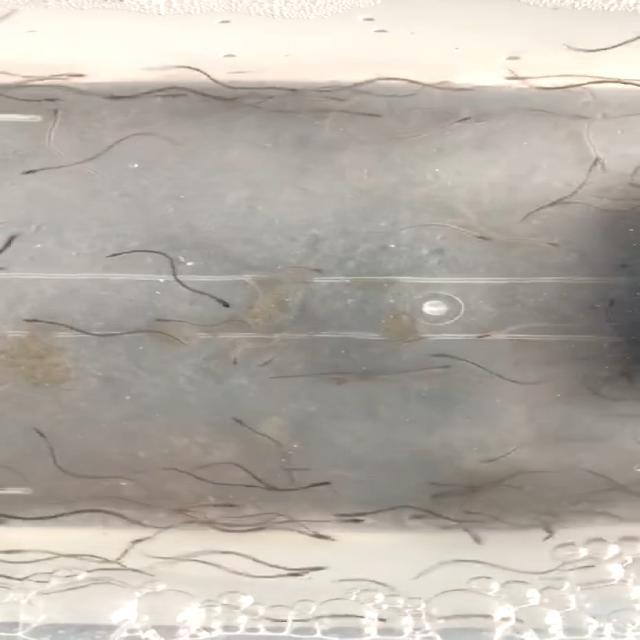active_glass_eel: (196, 294, 256, 311), (98, 87, 144, 107), (302, 529, 348, 549), (206, 413, 259, 430), (435, 110, 485, 128), (16, 315, 66, 331), (436, 75, 474, 96), (462, 229, 504, 248), (533, 234, 569, 252), (314, 477, 344, 498), (209, 498, 250, 512), (418, 348, 458, 362), (24, 418, 52, 438), (304, 558, 338, 574), (302, 261, 335, 277), (48, 68, 88, 81), (451, 508, 483, 524), (216, 352, 250, 367), (420, 363, 462, 375), (462, 534, 498, 548), (507, 72, 539, 87), (466, 331, 498, 346), (29, 94, 74, 104), (288, 569, 316, 585), (328, 507, 362, 520), (259, 358, 285, 374), (13, 168, 50, 178), (148, 312, 174, 326), (584, 152, 610, 166), (406, 512, 428, 528), (364, 106, 376, 125)
